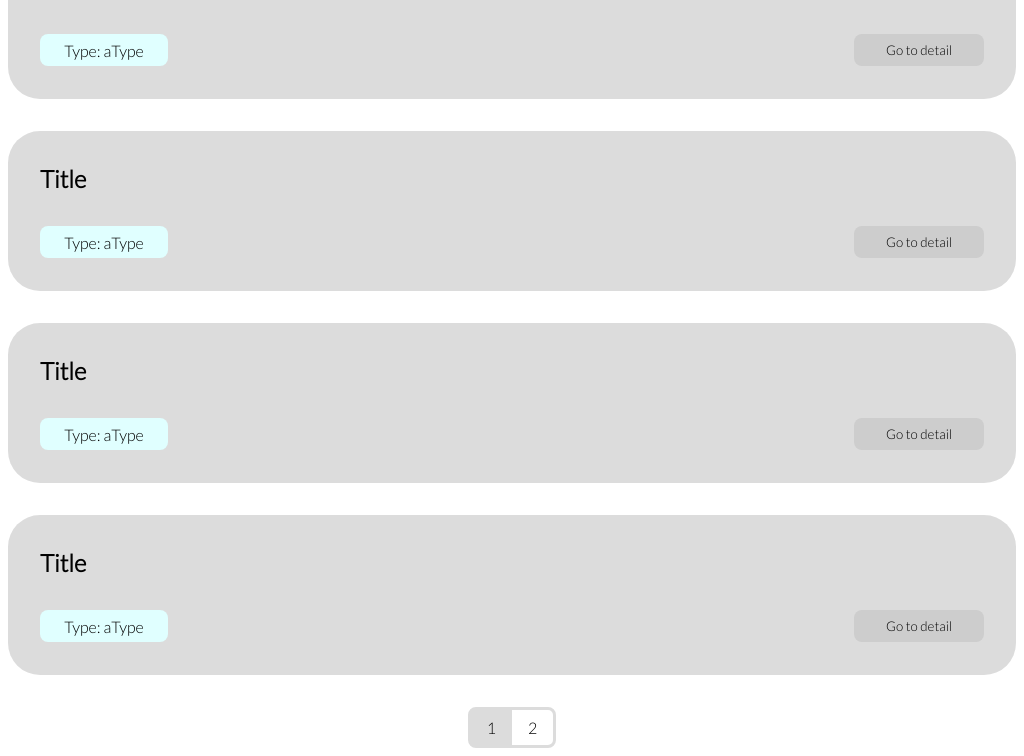
Test: Article list Pagination › renders page when click on number page
(page scrolled)
Click the list item "2" at (533, 728), box [528,718,537,737]
(page scrolled)
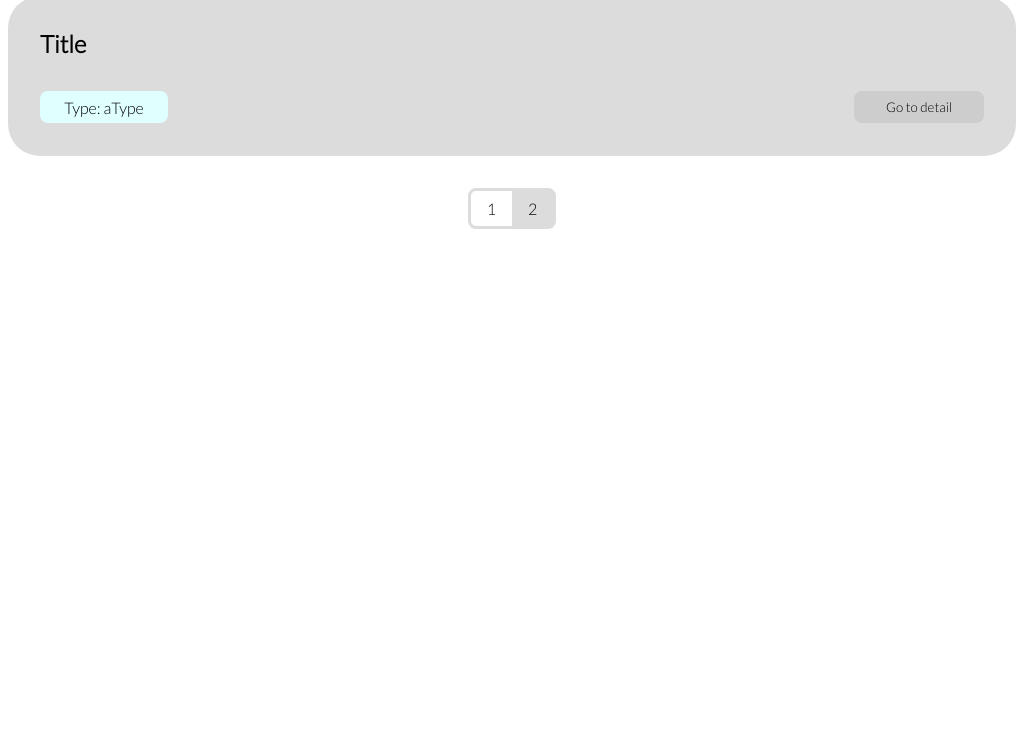
Result: the number of headings "Title" is 1 at [40,29,86,58]
